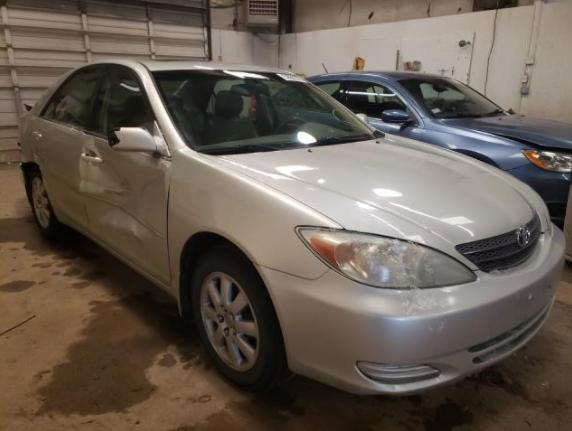Broken part: (108, 127, 157, 151), (165, 179, 172, 267)
Cracked: (296, 226, 476, 289)
Dent: (71, 134, 170, 285), (20, 116, 57, 177)
Flaking: (401, 290, 445, 332)
Missing part: (524, 293, 536, 305), (547, 284, 553, 288)
Scratch: (476, 314, 549, 369), (469, 315, 539, 357)
